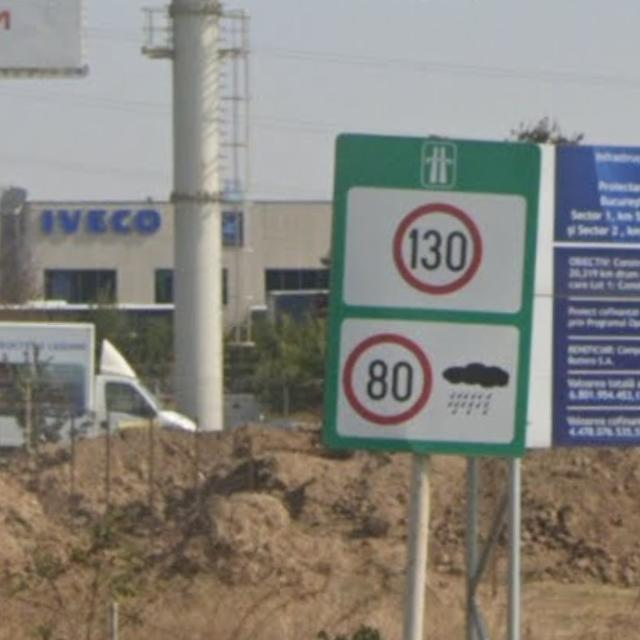forb_speed_over_80: (342, 332, 435, 427)
